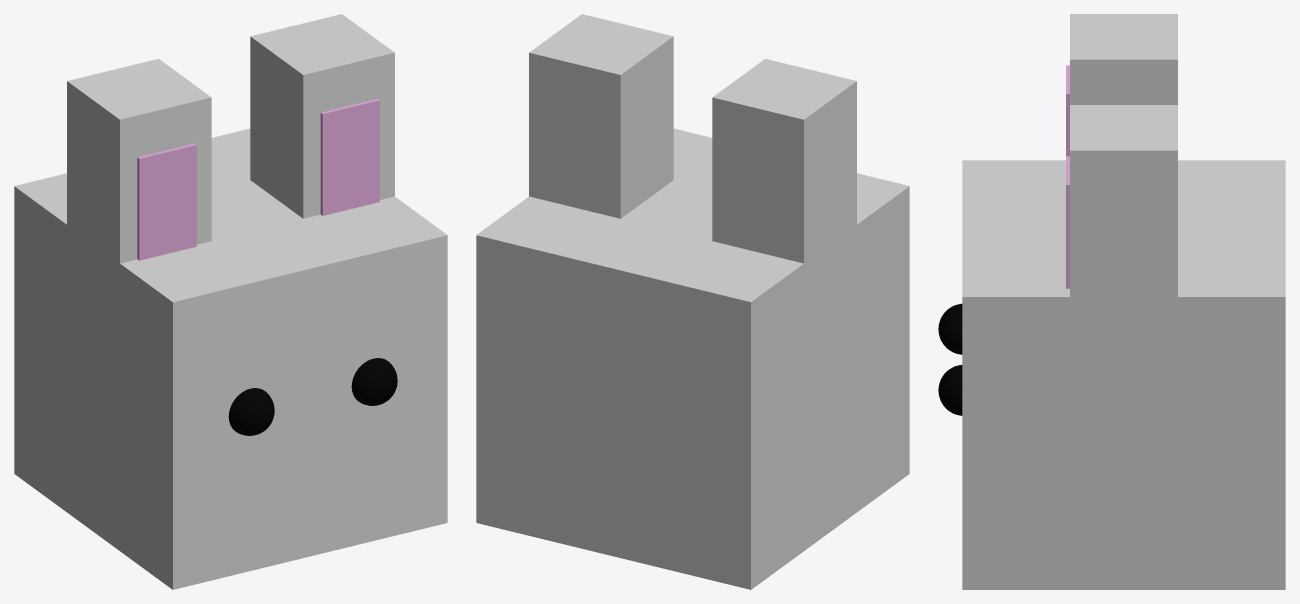
File: rabbit.fbx
3 views of the same model, side by side, from view 1: azimuth 30°, elevation 25°; view 2: azimuth 150°, elevation 25°; view 3: azimuth 270°, elevation 25° (orthographic).
Parts seen in each view (by area): view 1: Cube, Cube.001, Cube.002, Sphere.001, Sphere; view 2: Cube; view 3: Cube, Sphere, Sphere.001, Cube.002.
Part boxes in pixels (box(x1,y1,x2,y2)): Cube: box(14, 14, 447, 589); Cube.001: box(137, 143, 196, 260); Cube.002: box(320, 99, 379, 215); Sphere.001: box(351, 358, 397, 405); Sphere: box(228, 388, 274, 435); Cube: box(476, 14, 909, 589); Cube: box(962, 14, 1285, 589); Sphere: box(938, 303, 962, 354); Sphere.001: box(938, 365, 962, 415); Cube.002: box(1066, 156, 1069, 288).
Size of the model in its own units: 200 by 300 by 215.
